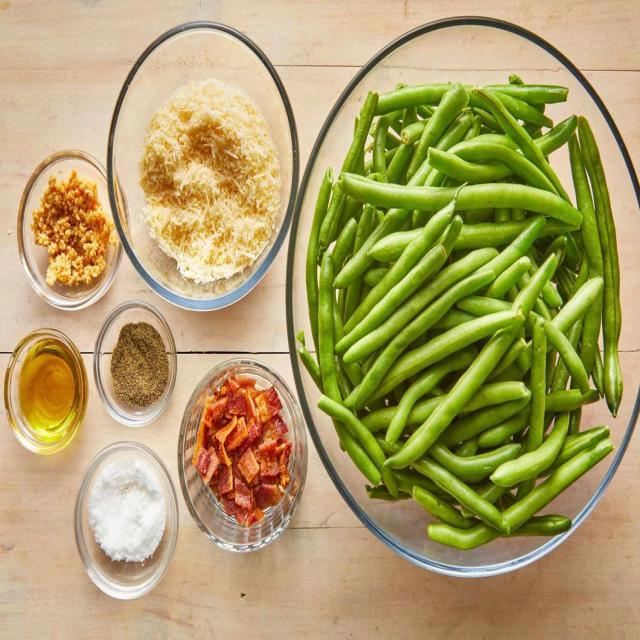Beans: (303, 77, 631, 554)
